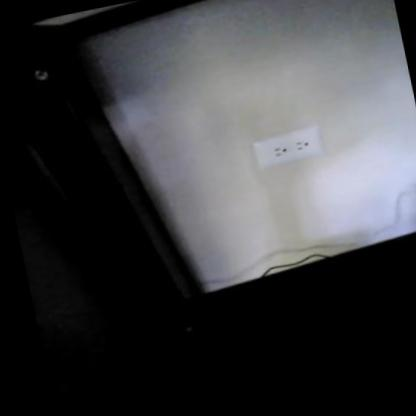OUTLET: (248, 126, 322, 171)
